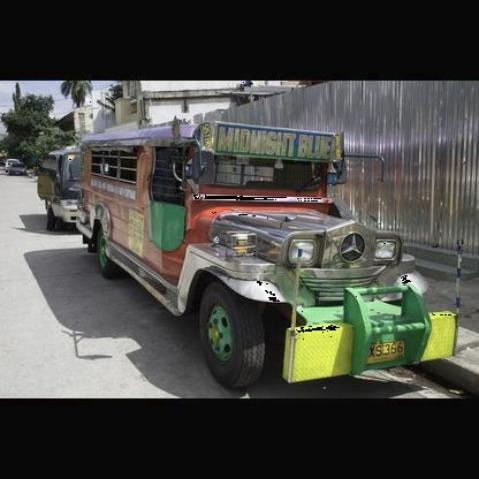jeepney: (80, 97, 460, 395)
